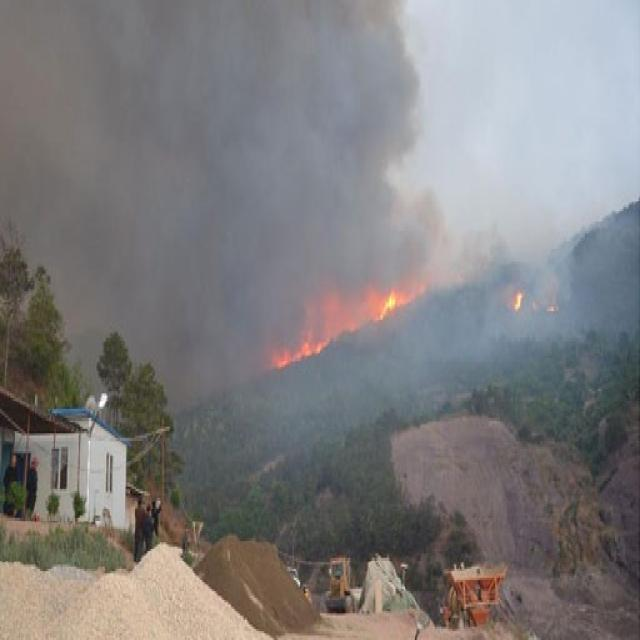Fire: (274, 338, 330, 369), (378, 288, 396, 322), (514, 291, 524, 313)
Smoke: (1, 2, 640, 416)
